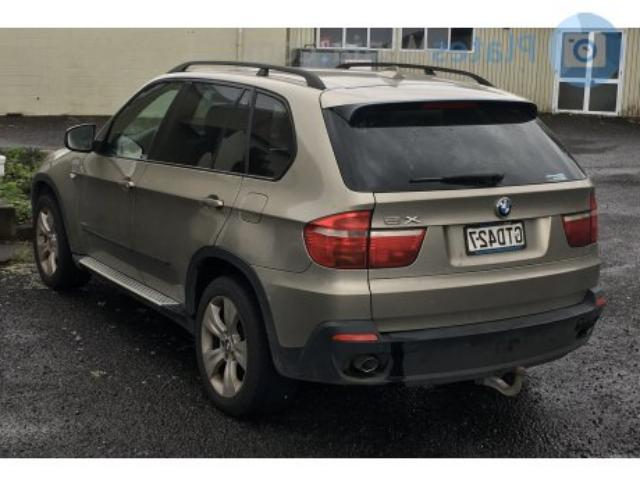Rego: (464, 219, 528, 257)
